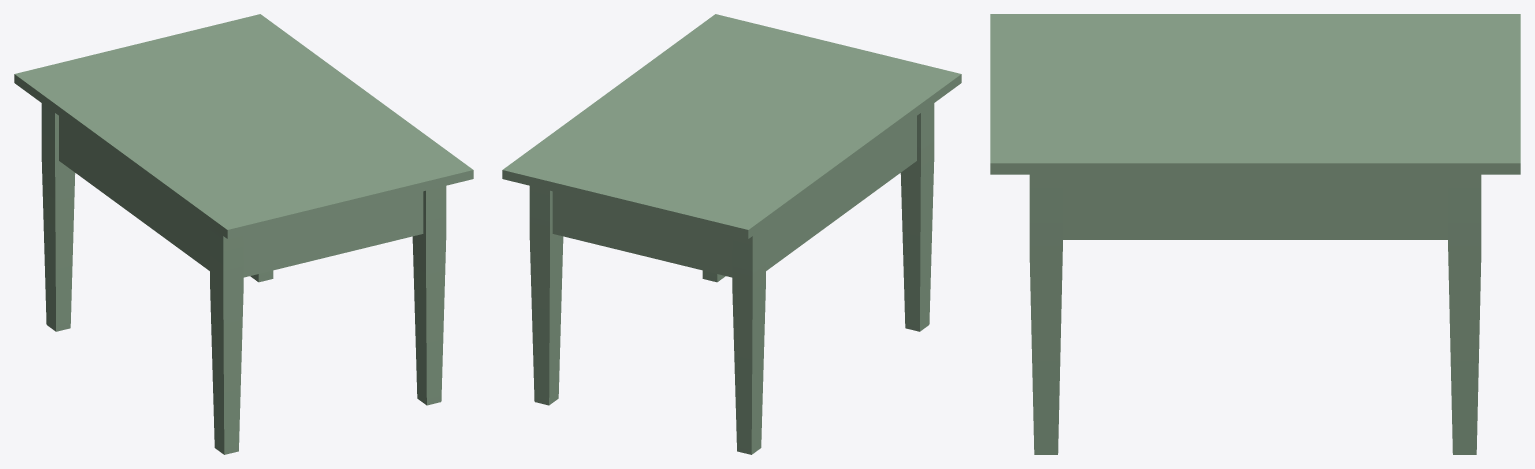
Rendered from room_table_mesh_01.fbx.
3 views of the same model, side by side, from view 1: azimuth 30°, elevation 25°; view 2: azimuth 150°, elevation 25°; view 3: azimuth 270°, elevation 25° (orthographic). The views are drawn at different scales.
Visible parts, largest first — view 1: room_table_mesh; view 2: room_table_mesh; view 3: room_table_mesh.
Part boxes in pixels (x1,y1,x2,y2): room_table_mesh: [14, 14, 473, 454]; room_table_mesh: [502, 14, 961, 454]; room_table_mesh: [990, 14, 1520, 454].
Bounding box in the file's own units: 80 × 75 × 120.
